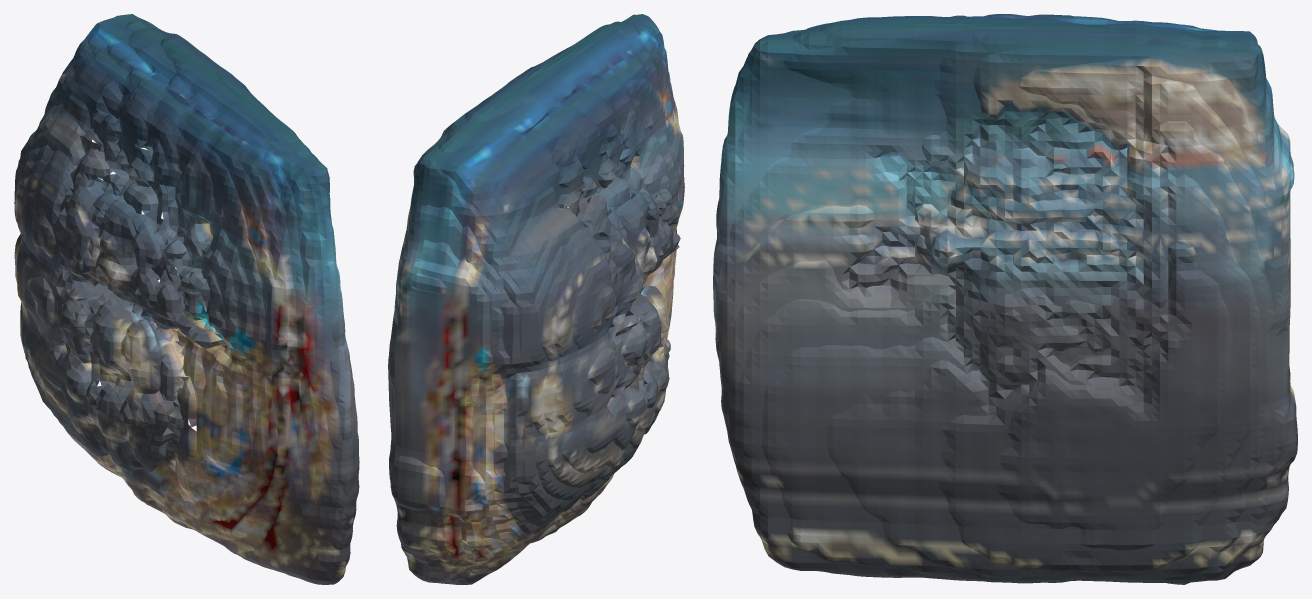
File: test_03_characters__characters_0003_82-2301311R332234_VERTEX_COLOR.glb
3 renders of one model, left to right at view 1: azimuth 30°, elevation 25°; view 2: azimuth 150°, elevation 25°; view 3: azimuth 270°, elevation 25°, orthographic. The views are drawn at different scales.
Visible parts, largest first — view 1: geometry_0; view 2: geometry_0; view 3: geometry_0.
Part boxes in pixels (left/top/right/bottom): geometry_0: left=14, top=14, right=359, bottom=584; geometry_0: left=388, top=14, right=684, bottom=584; geometry_0: left=713, top=14, right=1297, bottom=584.
Size of the model in its own units: 0.4356 by 1.01 by 0.9813.
